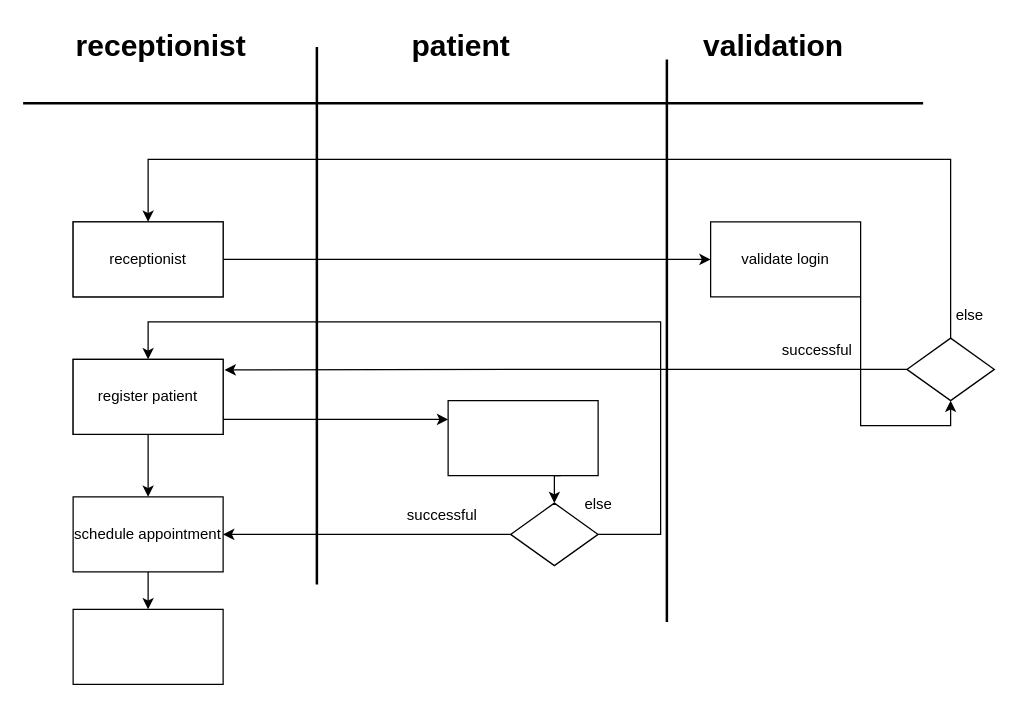
This 1016x706 diagram has some shape labels left out. Each missing label, with the centre of its shape:
create counter: pixel 147 646
patient registred: pixel 522 437
